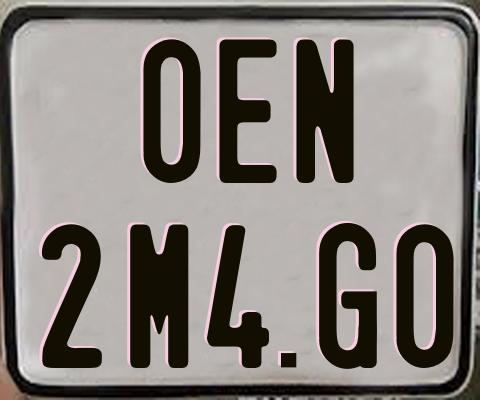0: (394, 222, 456, 371), (141, 39, 202, 183)
2: (42, 224, 108, 370)
4: (205, 222, 267, 365)
E: (218, 36, 276, 183)
G: (317, 220, 380, 369)
M: (129, 222, 190, 368)
N: (295, 39, 355, 188)
